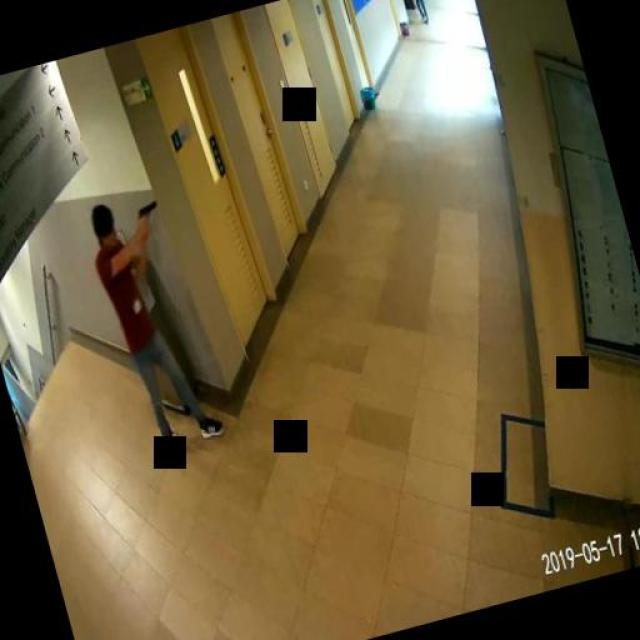gun: (130, 198, 160, 232)
